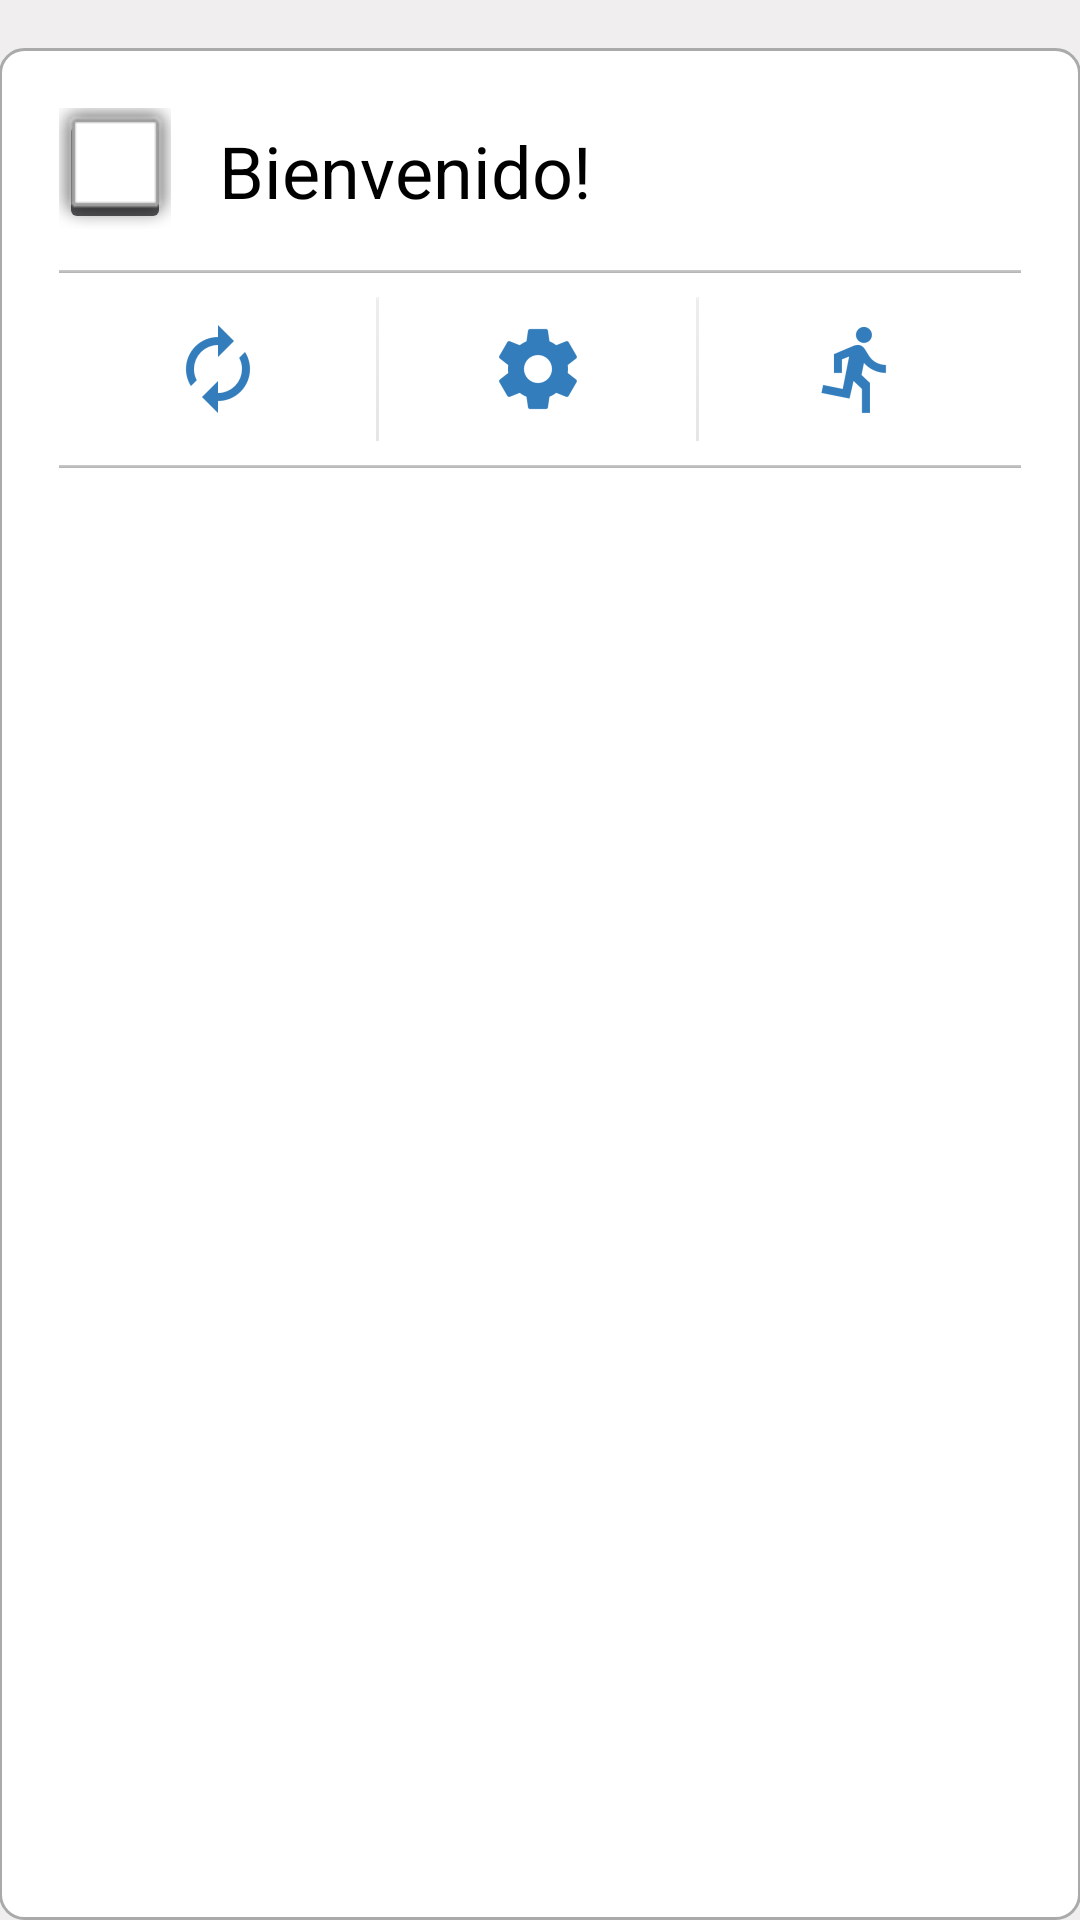

Point at icon controls on the screen. Image size 1080w x 1920h, points as (x,y).
reload: (218,369)
settings: (538,369)
